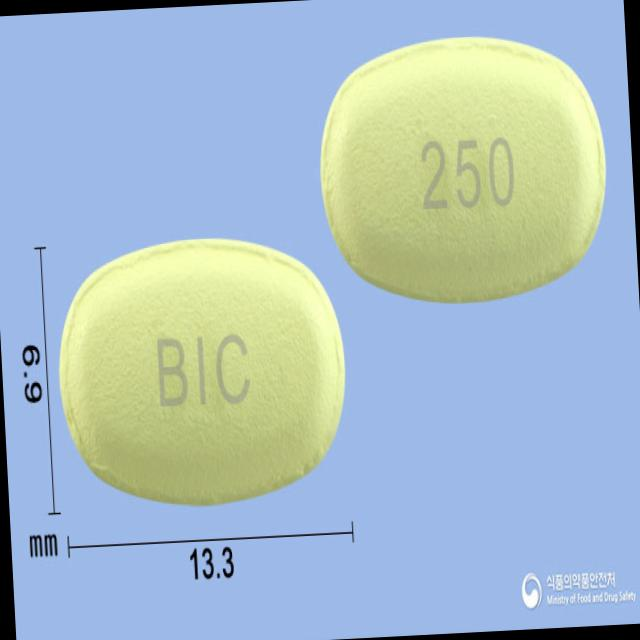Clasta: (52, 222, 354, 518), (313, 27, 614, 310)
